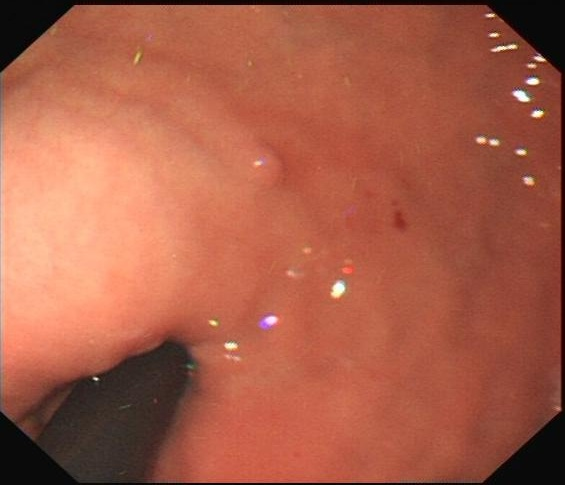Polyp: (221, 127, 312, 208)
